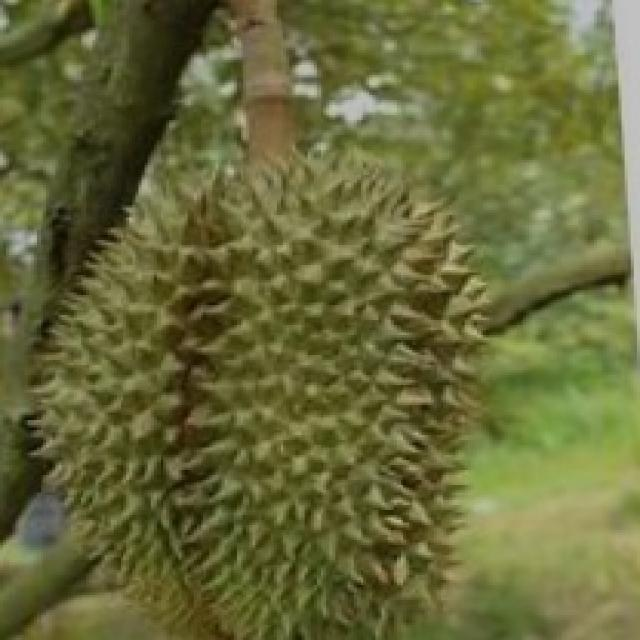fruit: (0, 208, 342, 638)
